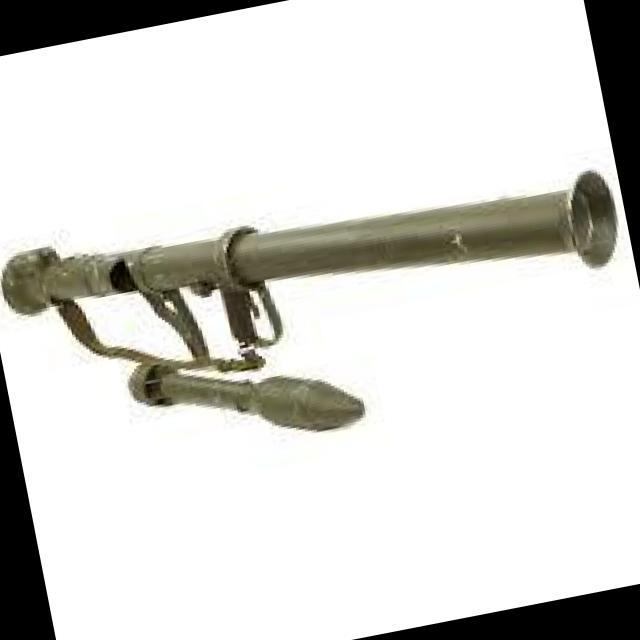rocket: (0, 128, 640, 477)
